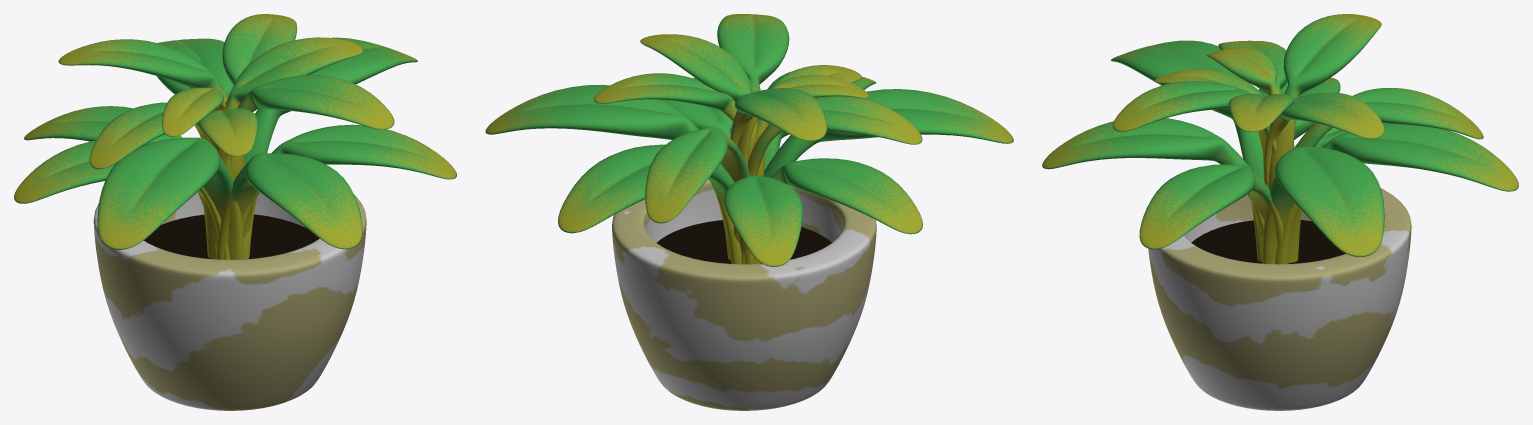
Rendered from desk-plant.glb.
3 views of the same model, side by side, from view 1: azimuth 30°, elevation 25°; view 2: azimuth 150°, elevation 25°; view 3: azimuth 270°, elevation 25° (orthographic). The views are drawn at different scales.
Parts seen in each view (by area): view 1: Plant.002; view 2: Plant.002; view 3: Plant.002.
Part boxes in pixels (x1=…): Plant.002: x1=14, y1=14, x2=456, y2=410; Plant.002: x1=485, y1=14, x2=1013, y2=410; Plant.002: x1=1042, y1=14, x2=1518, y2=410.
Size of the model in its own units: 1.47 by 1.07 by 1.47.
Materials: 1 (1 with a texture image).
